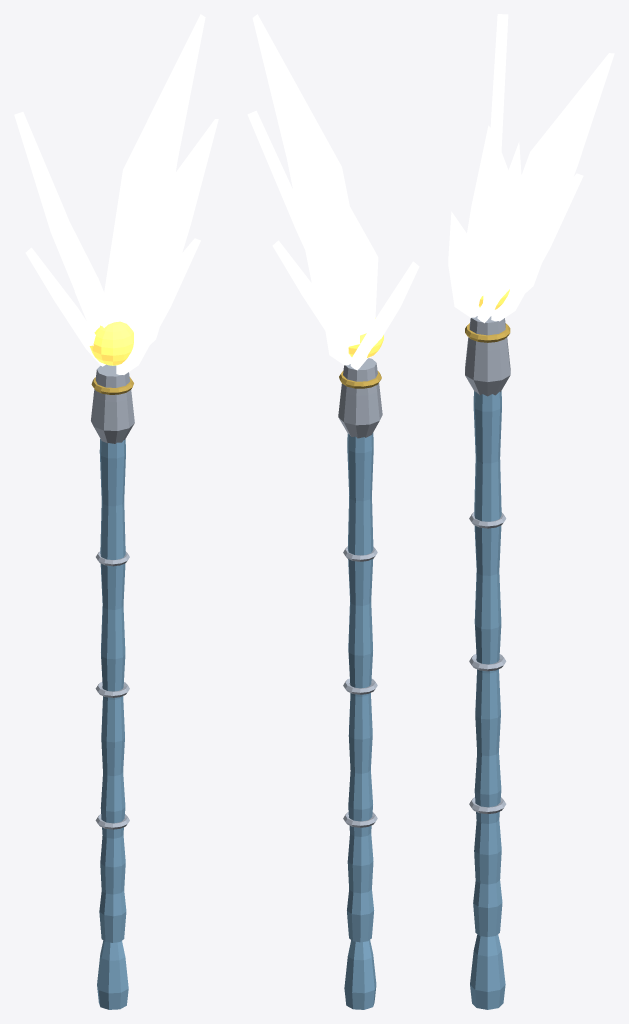
Rendered from staff_frostbrand.glb.
The picture shows the model from 3 angles, left to right: view 1: azimuth 30°, elevation 25°; view 2: azimuth 150°, elevation 25°; view 3: azimuth 270°, elevation 25°; orthographic projection. The views are drawn at different scales.
Visible parts, largest first — view 1: Fr_Blade0, Fr_Shaft, Fr_Blade2, Fr_Blade1, Fr_Small3, Fr_Neck, Fr_Foot, Fr_Small2, Fr_Core; view 2: Fr_Shaft, Fr_Blade0, Fr_Blade1, Fr_Neck, Fr_Blade2, Fr_Foot, Fr_Small2, Fr_Small0, Fr_Small1; view 3: Fr_Shaft, Fr_Blade1, Fr_Blade2, Fr_Neck, Fr_Blade0, Fr_Foot, Fr_Small0, Fr_Small1, Fr_Small3, Fr_GoldRing.
Boxes of the visible parts, left/top/right/bottom form: Fr_Blade0: left=99, top=14, right=205, bottom=327; Fr_Shaft: left=99, top=439, right=126, bottom=942; Fr_Blade2: left=128, top=119, right=218, bottom=344; Fr_Blade1: left=14, top=112, right=101, bottom=332; Fr_Small3: left=116, top=238, right=200, bottom=374; Fr_Neck: left=91, top=364, right=134, bottom=443; Fr_Foot: left=97, top=940, right=128, bottom=1009; Fr_Small2: left=25, top=247, right=105, bottom=366; Fr_Core: left=89, top=321, right=133, bottom=365; Fr_Shaft: left=347, top=433, right=374, bottom=942; Fr_Blade0: left=252, top=14, right=349, bottom=297; Fr_Blade1: left=327, top=185, right=378, bottom=362; Fr_Neck: left=338, top=358, right=382, bottom=438; Fr_Blade2: left=247, top=110, right=325, bottom=291; Fr_Foot: left=344, top=940, right=376, bottom=1009; Fr_Small2: left=350, top=261, right=419, bottom=370; Fr_Small0: left=323, top=266, right=360, bottom=365; Fr_Small1: left=272, top=240, right=325, bottom=330; Fr_Shaft: left=473, top=391, right=502, bottom=936; Fr_Blade1: left=509, top=53, right=614, bottom=292; Fr_Blade2: left=457, top=125, right=519, bottom=315; Fr_Neck: left=465, top=316, right=510, bottom=396; Fr_Blade0: left=483, top=14, right=508, bottom=315; Fr_Foot: left=470, top=934, right=505, bottom=1009; Fr_Small0: left=491, top=173, right=583, bottom=321; Fr_Small1: left=477, top=205, right=552, bottom=323; Fr_Small3: left=448, top=211, right=484, bottom=317; Fr_GoldRing: left=465, top=323, right=510, bottom=342.
Bounding box in the file's own units: 0.5496 × 2.77 × 0.4018.
